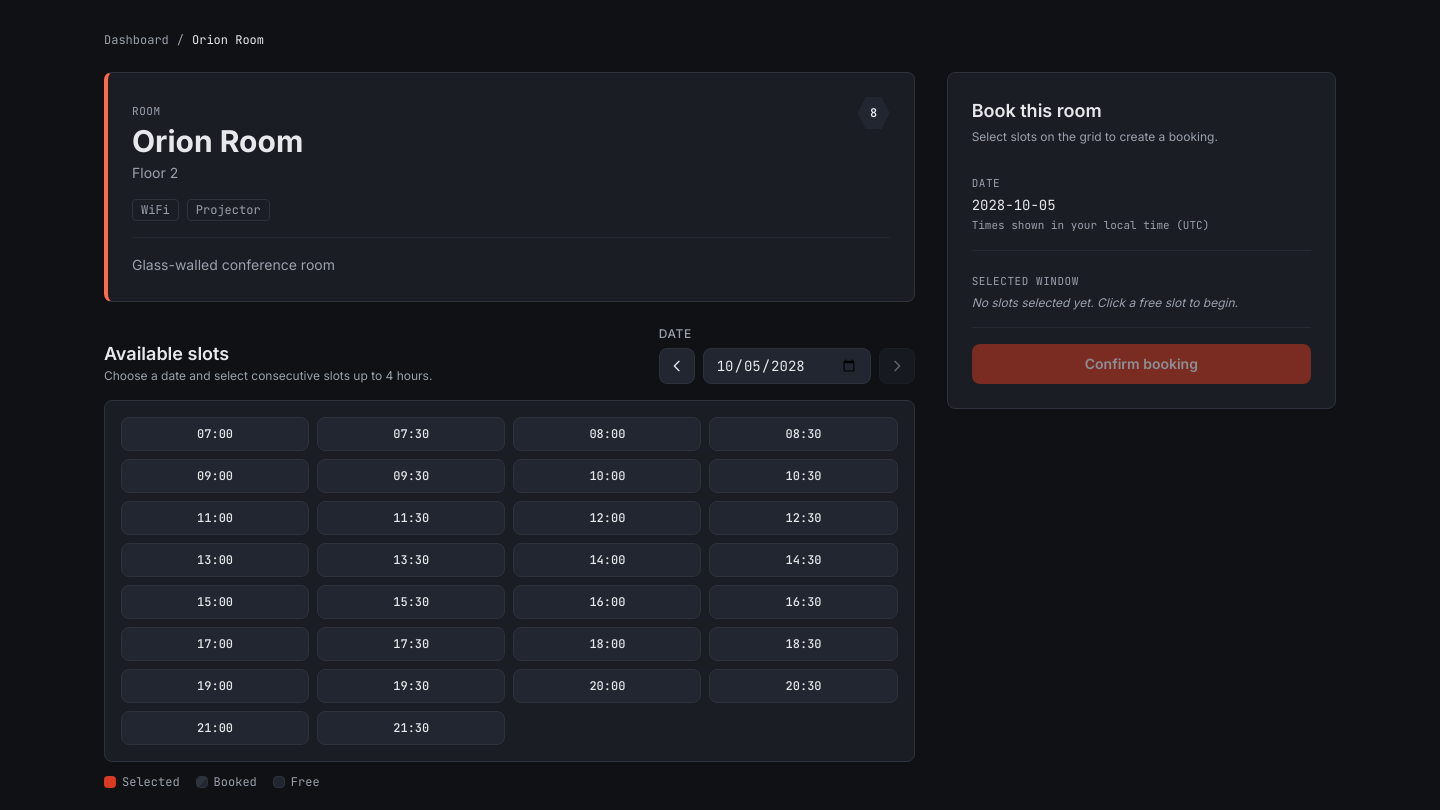
ResourceDetail Page › renders resource details, date picker, slot grid, and selection summary
Check: the heading "Orion Room" is shown, box [132,123,303,159]
Check: the text named "capacity 8" is shown, box [858,97,890,129]
Click the cell "10:00". click: (607, 476)
box: [513,459,702,493]
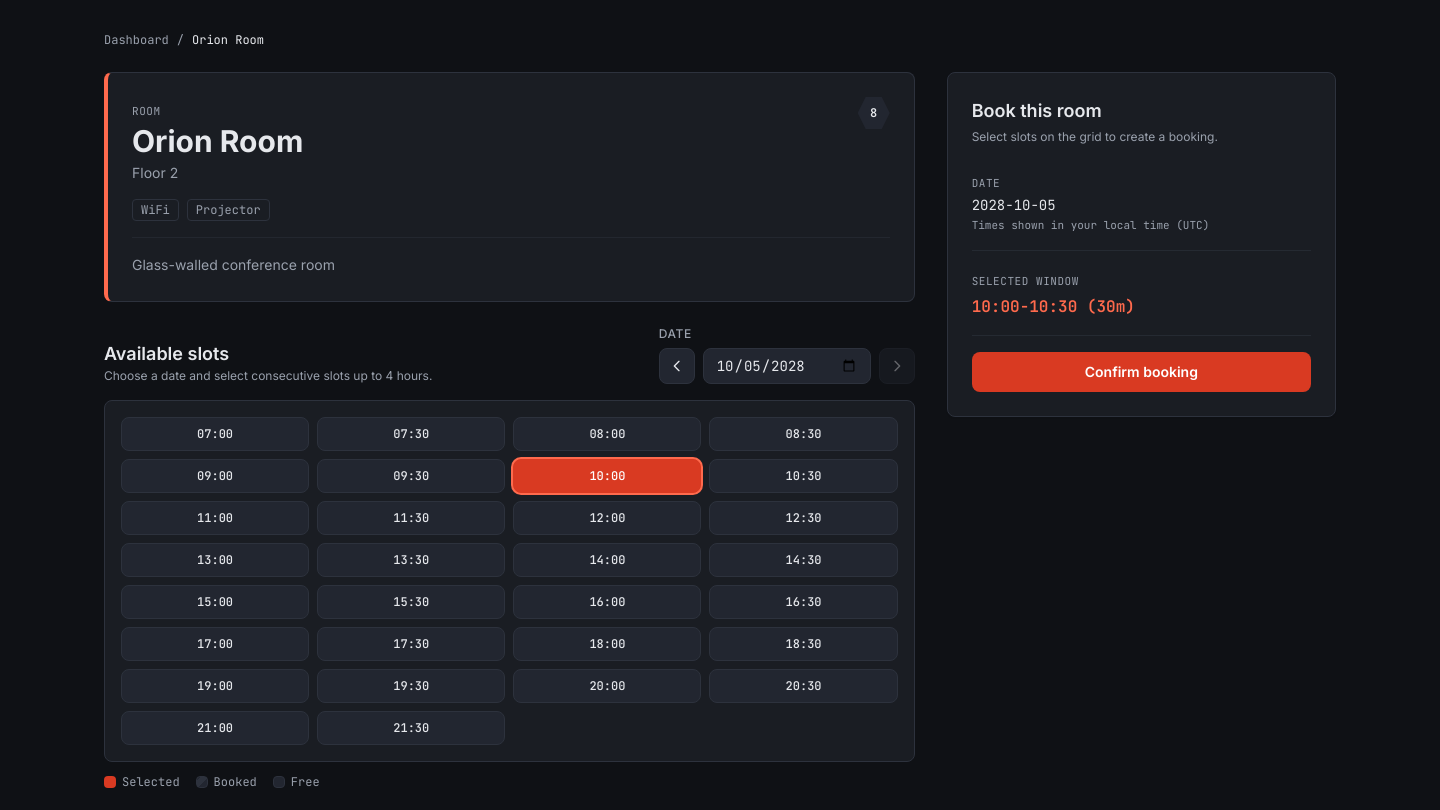
Check: the text with test id "selection-summary" reads "10:00-10:30 (30m)", box [972,296,1135,316]
